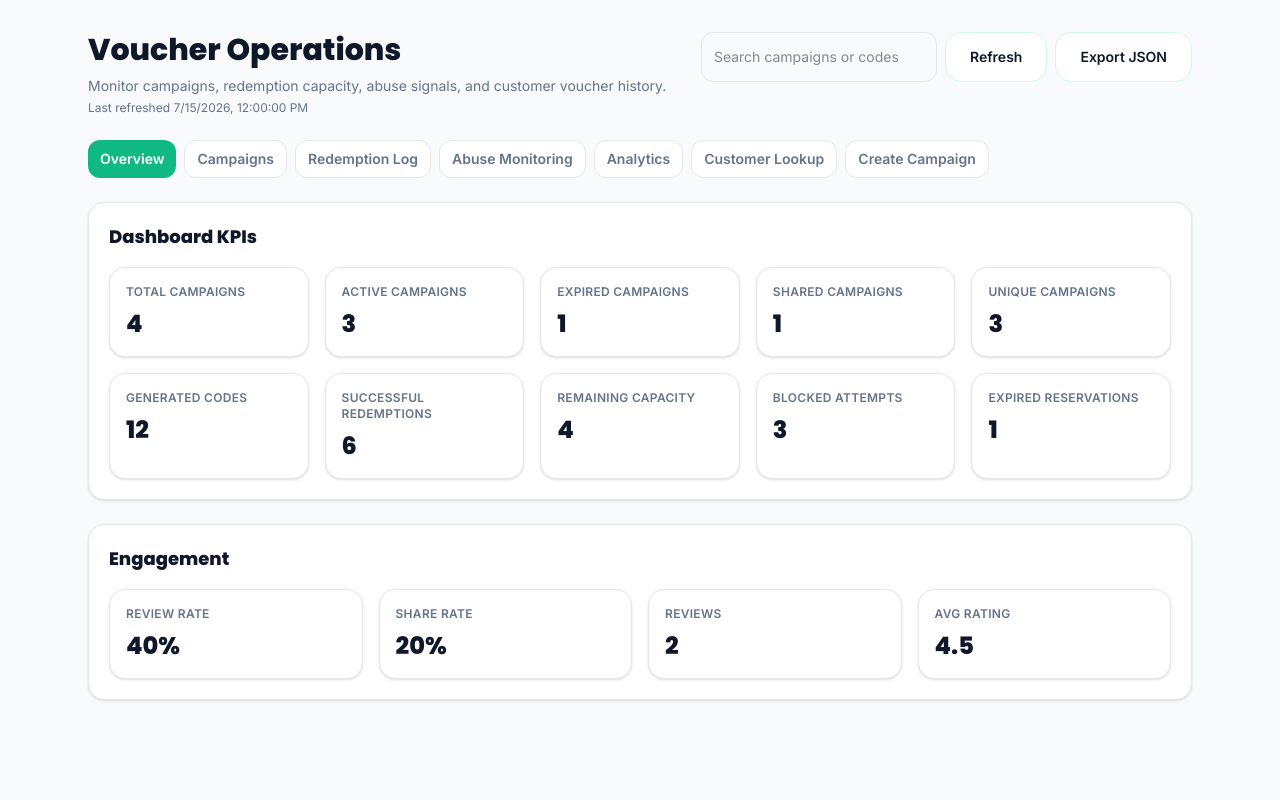
Test case: MarketingClient › renders abuse monitoring summary when the tab is selected
Click the button "Abuse Monitoring".
click(512, 159)  # box 439,140 -> 586,178
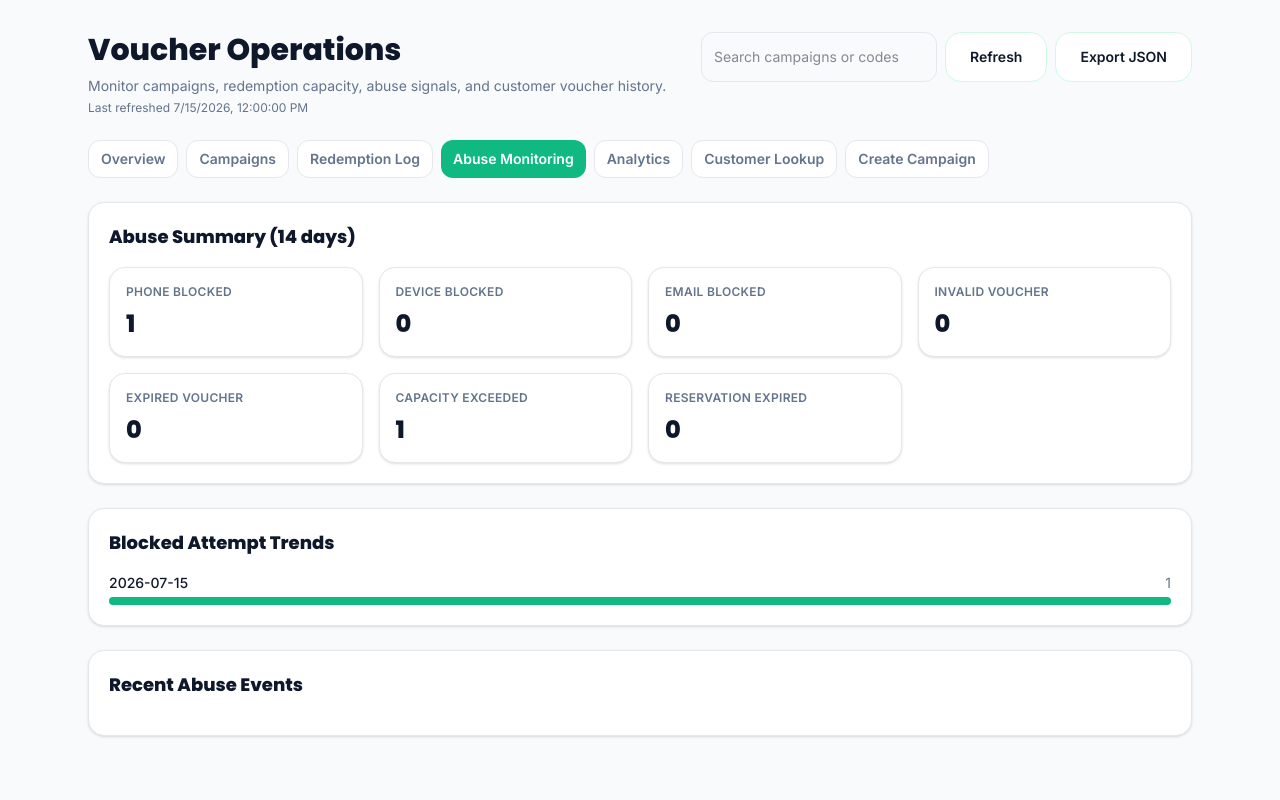
expect the text "Phone blocked" is shown: met, box 126,284 -> 232,299
expect the text "Capacity exceeded" is shown: met, box 396,390 -> 528,405
